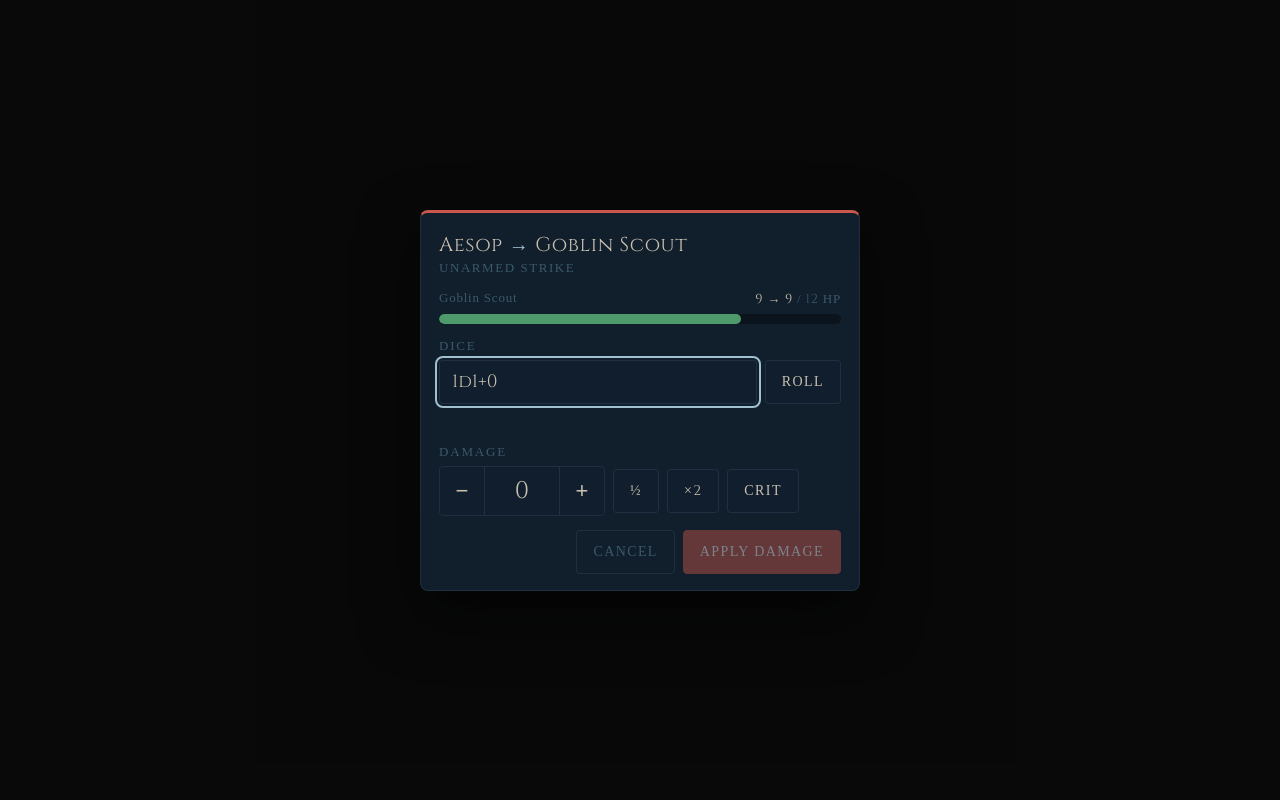
Test: DealDamageModal › rolls the dice into the amount and reports the roll
Replace the text in the field labelled "Dice" with "2d4+1". click: (598, 382)
box: [439,360,757,404]
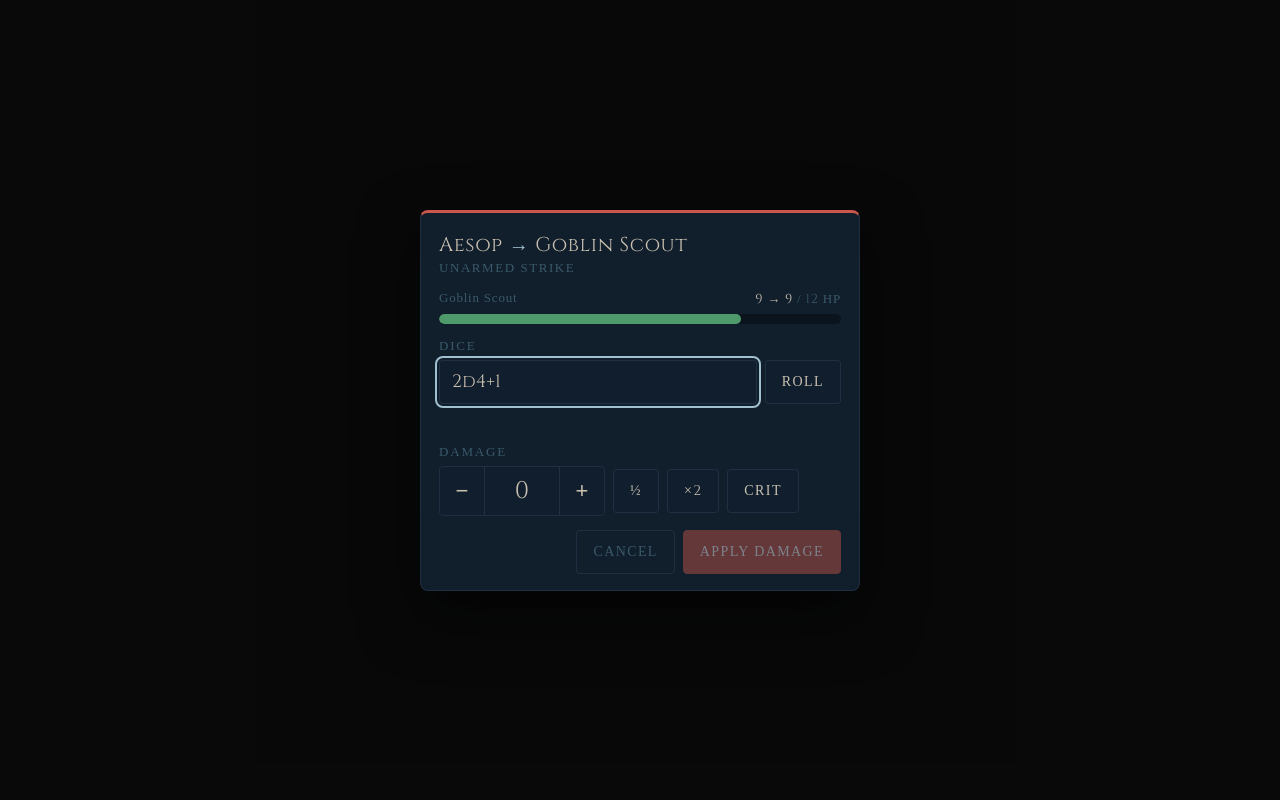
Click the button "Roll". click: (803, 382)
box: [765,360,841,404]
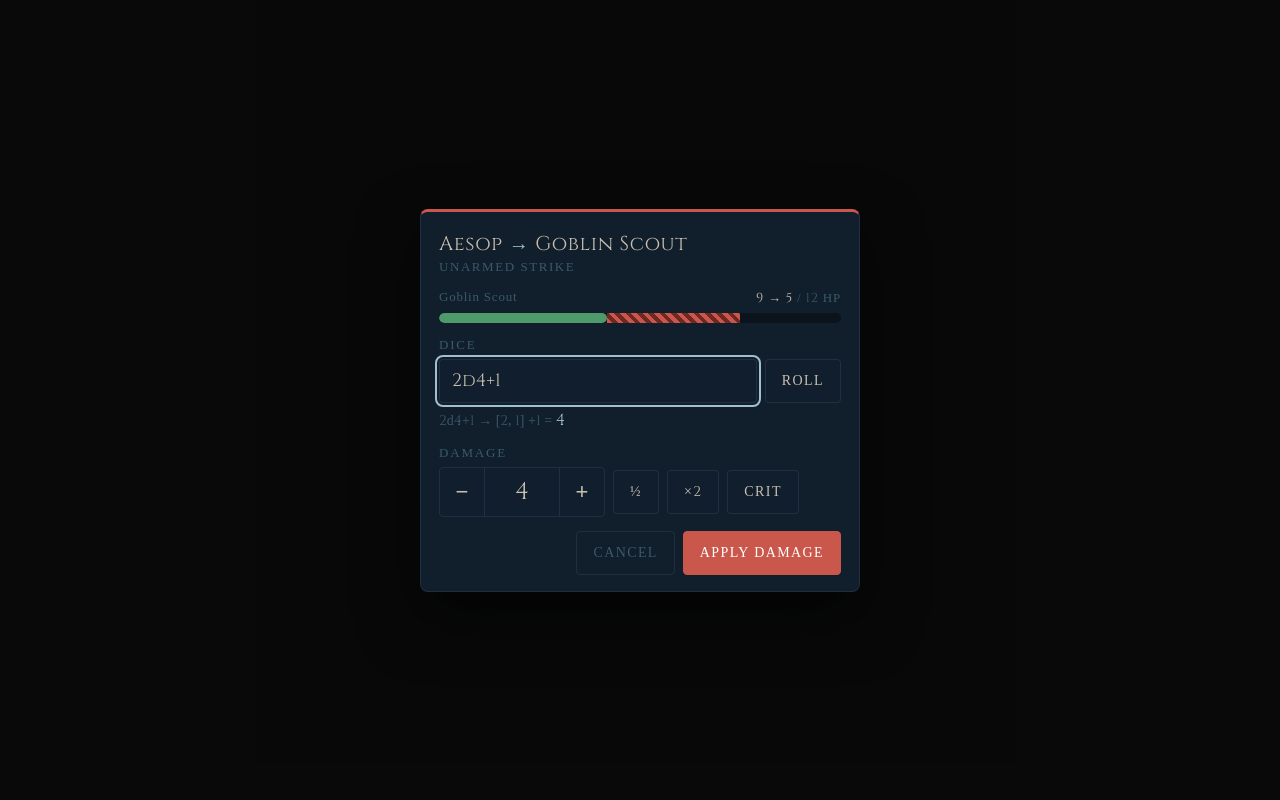
Expected: the number field named "Damage amount" holds "4", [484,468,560,516]
